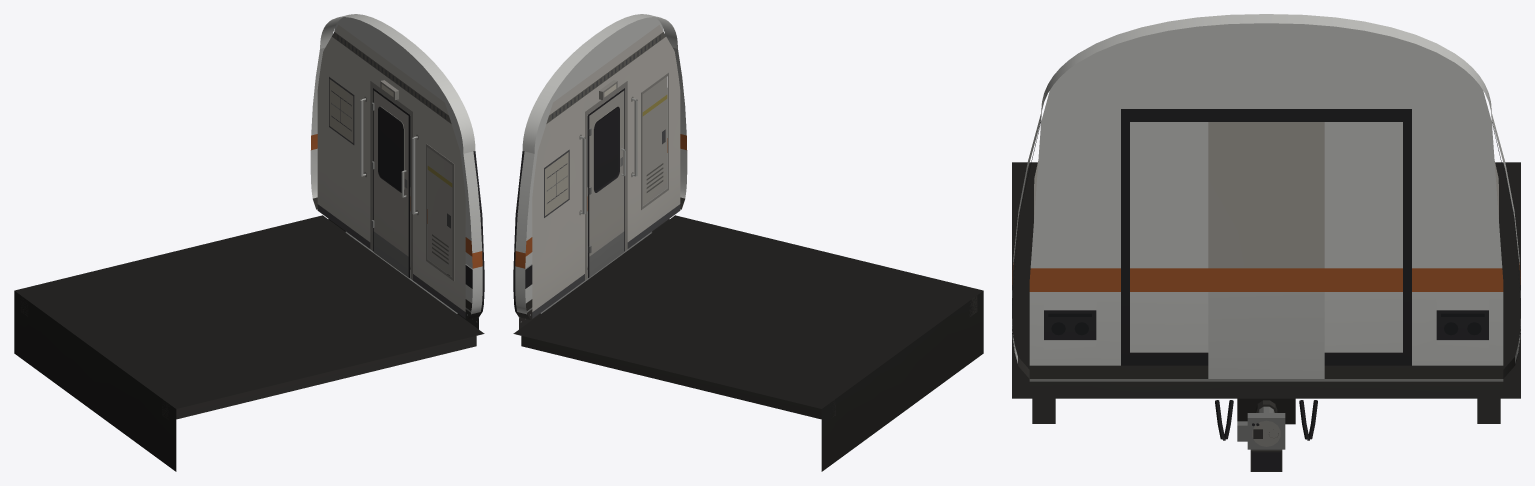
File: train_end_outer.glb
3 views of the same model, side by side, from view 1: azimuth 30°, elevation 25°; view 2: azimuth 150°, elevation 25°; view 3: azimuth 270°, elevation 25° (orthographic). The views are drawn at different scales.
Visible parts, largest first — view 1: train_end_outer; view 2: train_end_outer; view 3: train_end_outer.
Boxes of the visible parts, x1,y1,x2,y2 form: train_end_outer: (14, 14, 484, 471); train_end_outer: (513, 14, 983, 471); train_end_outer: (1012, 14, 1520, 471).
Size of the model in its own units: 3.85 by 3.6 by 3.5.
